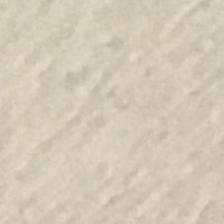Non_Crack: (37, 17, 224, 224)
